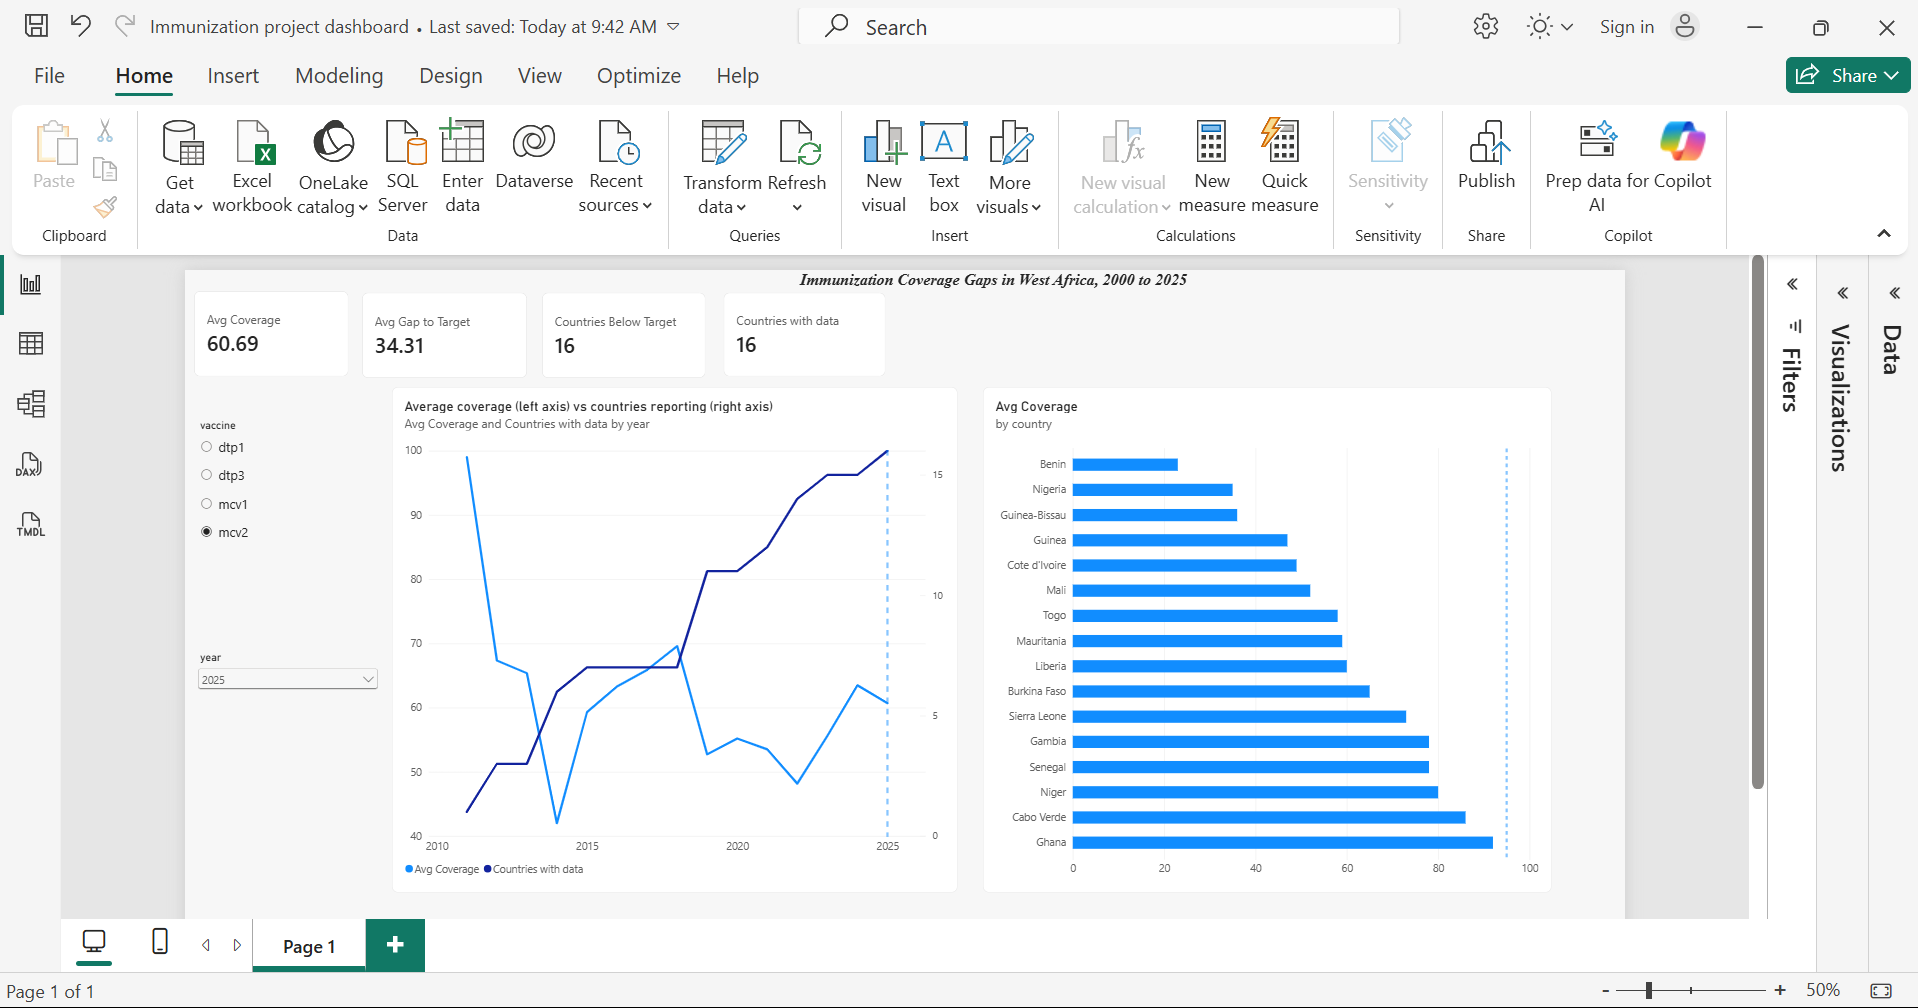

Layout of this report page (visuals, bound fields, positions):
{"tool":"powerbi","page":{"name":"Page 1","canvas":[1920,1080],"ordinal":0},"visuals":[{"type":"slicer","fields":{"Values":["wuenic_west_africa_long.vaccine"]},"box":[12,198,250,256],"z":0},{"type":"slicer","fields":{"Values":["wuenic_west_africa_long.year"]},"box":[12,508,250,122],"z":1000},{"type":"cardVisual","fields":{"Data":["wuenic_west_africa_long.Avg Coverage"]},"box":[12,28,206,114],"z":2000},{"type":"cardVisual","fields":{"Data":["wuenic_west_africa_long.Avg Gap to Target"]},"box":[236,30,220,114],"z":3000},{"type":"cardVisual","fields":{"Data":["wuenic_west_africa_long.Countries Below Target"]},"box":[476,30,218,114],"z":4000},{"type":"clusteredBarChart","fields":{"Category":["wuenic_west_africa_long.country"],"Y":["wuenic_west_africa_long.Avg Coverage"]},"box":[1064,156,758,674],"z":5000},{"type":"lineChart","title":"Average coverage (left axis) vs countries reporting (right axis)","fields":{"Category":["wuenic_west_africa_long.year"],"Y":["wuenic_west_africa_long.Avg Coverage"],"Y2":["wuenic_west_africa_long.Countries with data"]},"box":[276,156,754,674],"z":6000},{"type":"textbox","box":[1540,156,380,674],"z":7000},{"type":"textbox","box":[524,0,1108,58],"z":8000},{"type":"cardVisual","fields":{"Data":["wuenic_west_africa_long.Countries with data"]},"box":[718,30,216,112],"z":8001}]}

Visuals, with their boxes on the page's 1920x1080 design canvas (x1, y1, x2, y2). These are canvas units, not pixel positions in the 1918x1008 screenshot, which may show the page scaled, cropped or inside an application window:
slicer - wuenic_west_africa_long.vaccine: (12, 198, 262, 454)
slicer - wuenic_west_africa_long.year: (12, 508, 262, 630)
cardVisual - wuenic_west_africa_long.Avg Coverage: (12, 28, 218, 142)
cardVisual - wuenic_west_africa_long.Avg Gap to Target: (236, 30, 456, 144)
cardVisual - wuenic_west_africa_long.Countries Below Target: (476, 30, 694, 144)
clusteredBarChart - wuenic_west_africa_long.country x wuenic_west_africa_long.Avg Coverage: (1064, 156, 1822, 830)
"Average coverage (left axis) vs countries reporting (right axis)" lineChart: (276, 156, 1030, 830)
textbox: (1540, 156, 1920, 830)
textbox: (524, 0, 1632, 58)
cardVisual - wuenic_west_africa_long.Countries with data: (718, 30, 934, 142)
